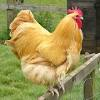buff: (10, 6, 84, 68)
